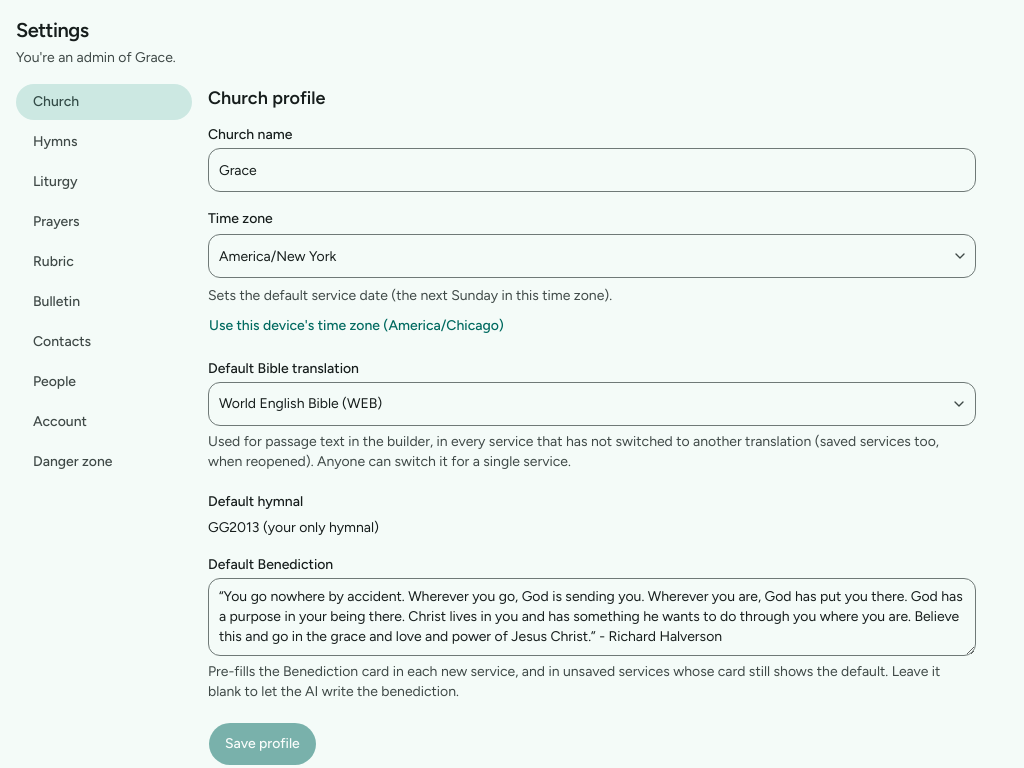
Test: Settings → Church (slice 6a-1) › toasts a role 403, refetches the profile and does not report the church as lost
The image size is (1024, 768).
Type " Church" into the field labelled "Church name" at (592,170), box [208,148,976,192]
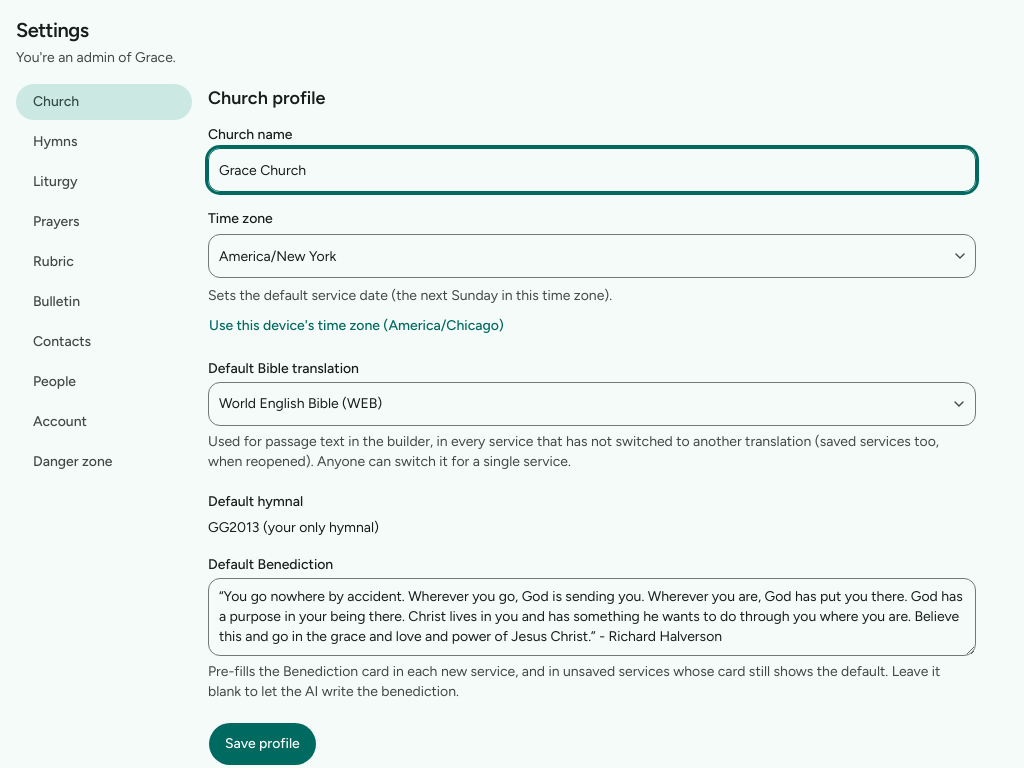
Click the button "Save profile" at (262,744), box [208,722,317,766]
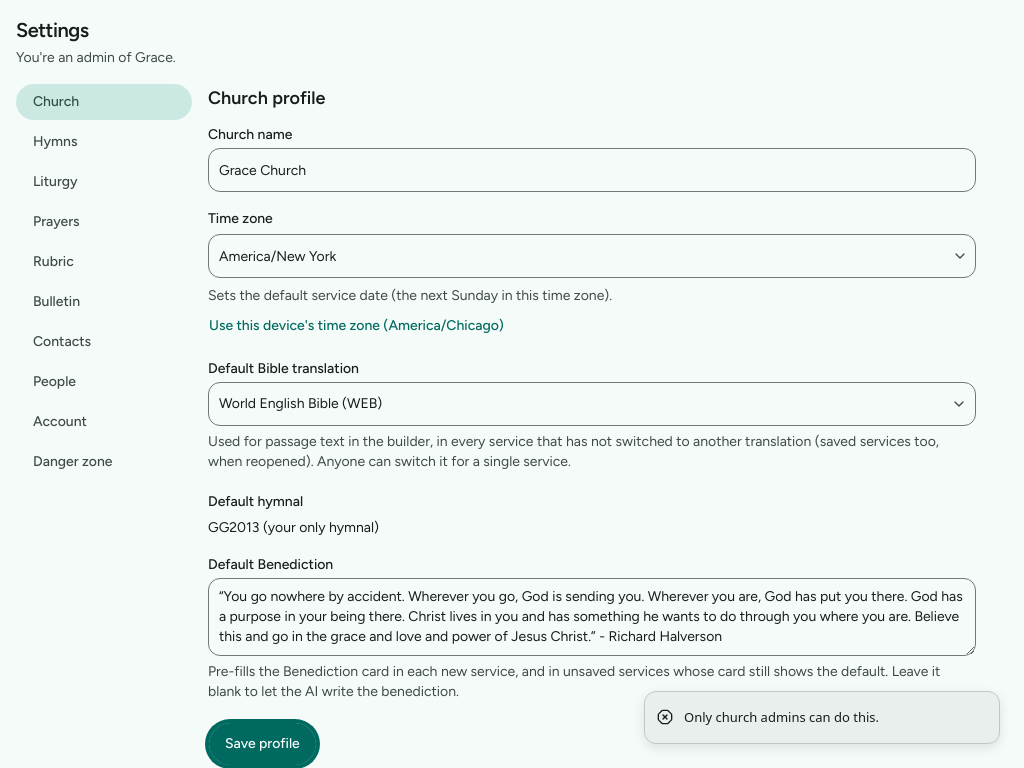
Now the text "Only church admins can do this." is shown, box [684,708,879,727]
